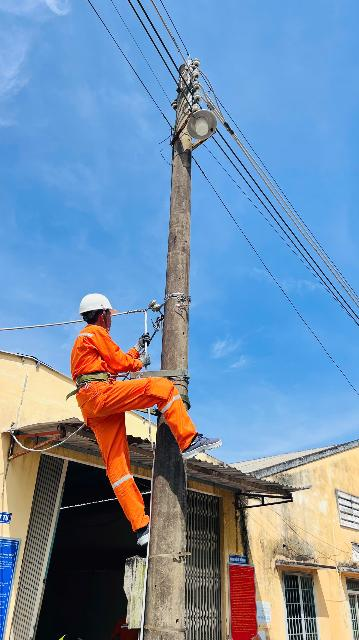gloves: (131, 333, 152, 349), (135, 353, 155, 368)
helmet: (75, 285, 122, 319)
shoes: (183, 430, 223, 464), (125, 518, 167, 549)
